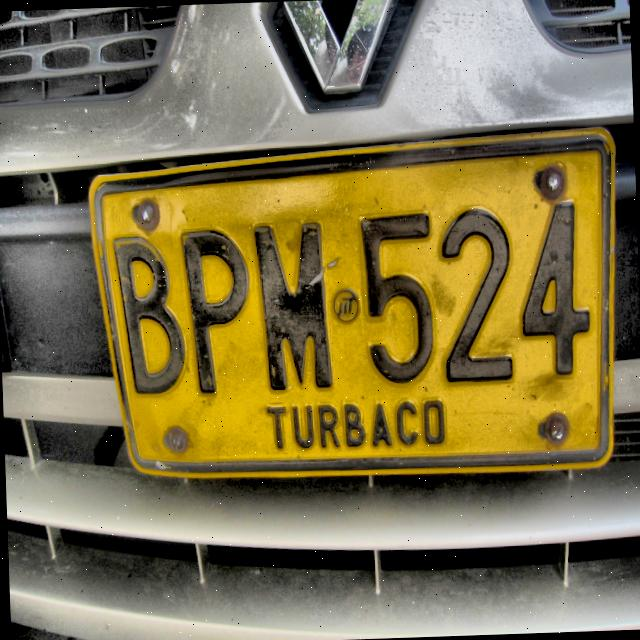plate: (94, 141, 609, 466)
